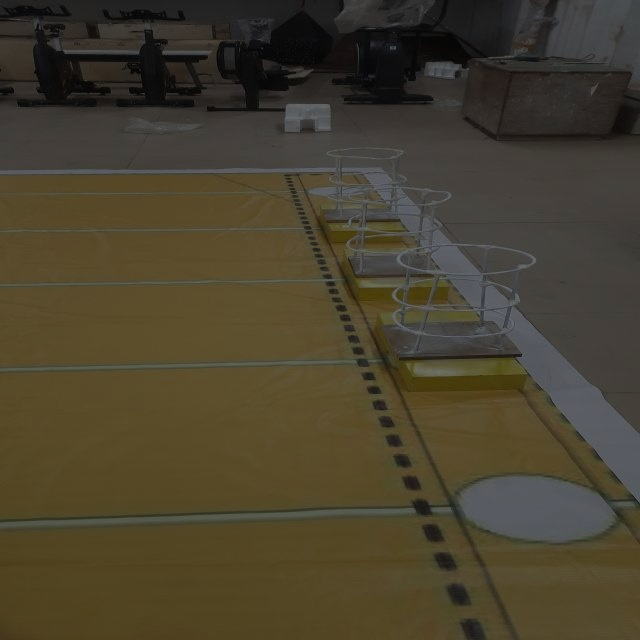silo: (388, 239, 543, 369), (342, 184, 451, 283), (318, 143, 414, 224)
